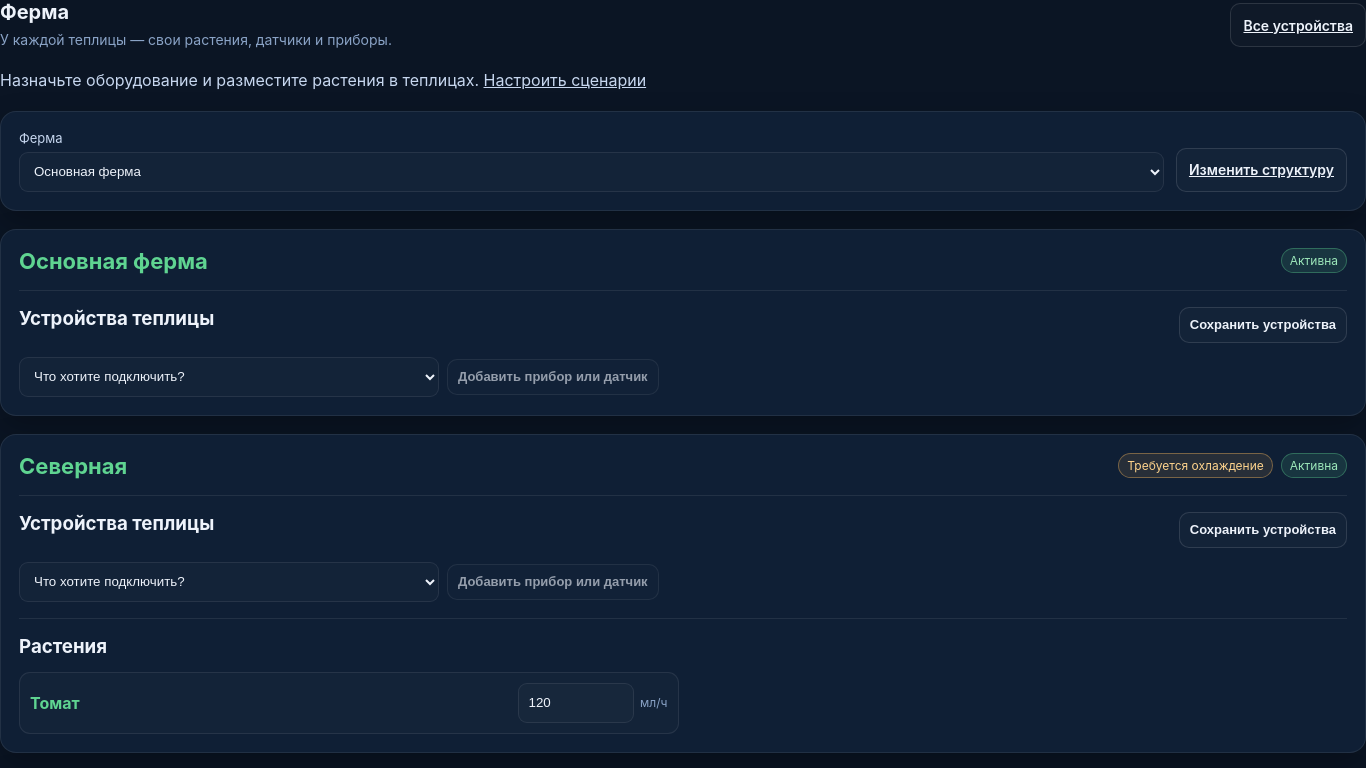
FarmConstructor › dobavlyaet sloty vyborochno i pokazyvaet zapros na ohlazhdenie bez kondicionera
Expected: the text "Требуется охлаждение" is shown, 1118,453 -> 1273,478
Expected: the button "Томат" is shown, 30,693 -> 508,713
Select "Температура воздуха" in the dropdown named "Что подключить" below "Северная" at (229, 582), box 19,562 -> 439,602
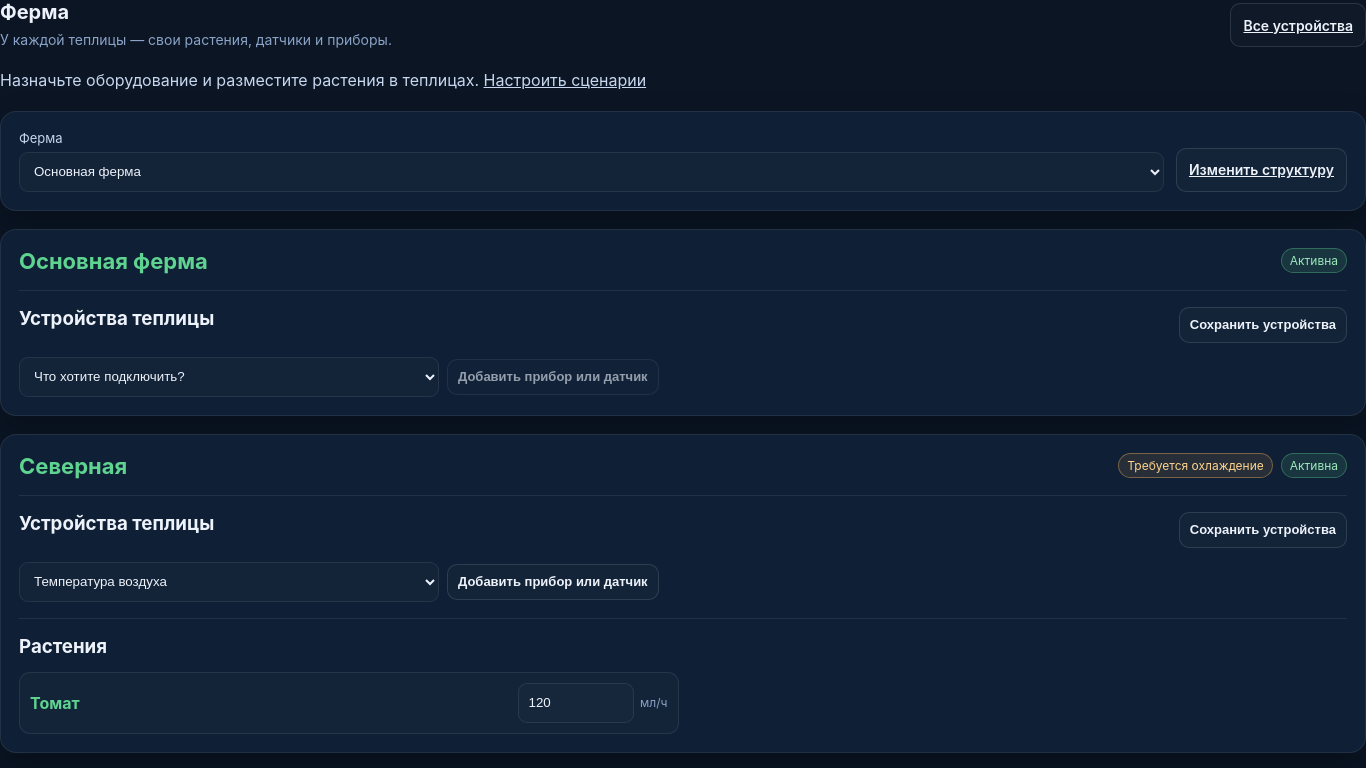
Click the 2nd button "Добавить прибор или датчик" at (553, 582), box 447,564 -> 659,600
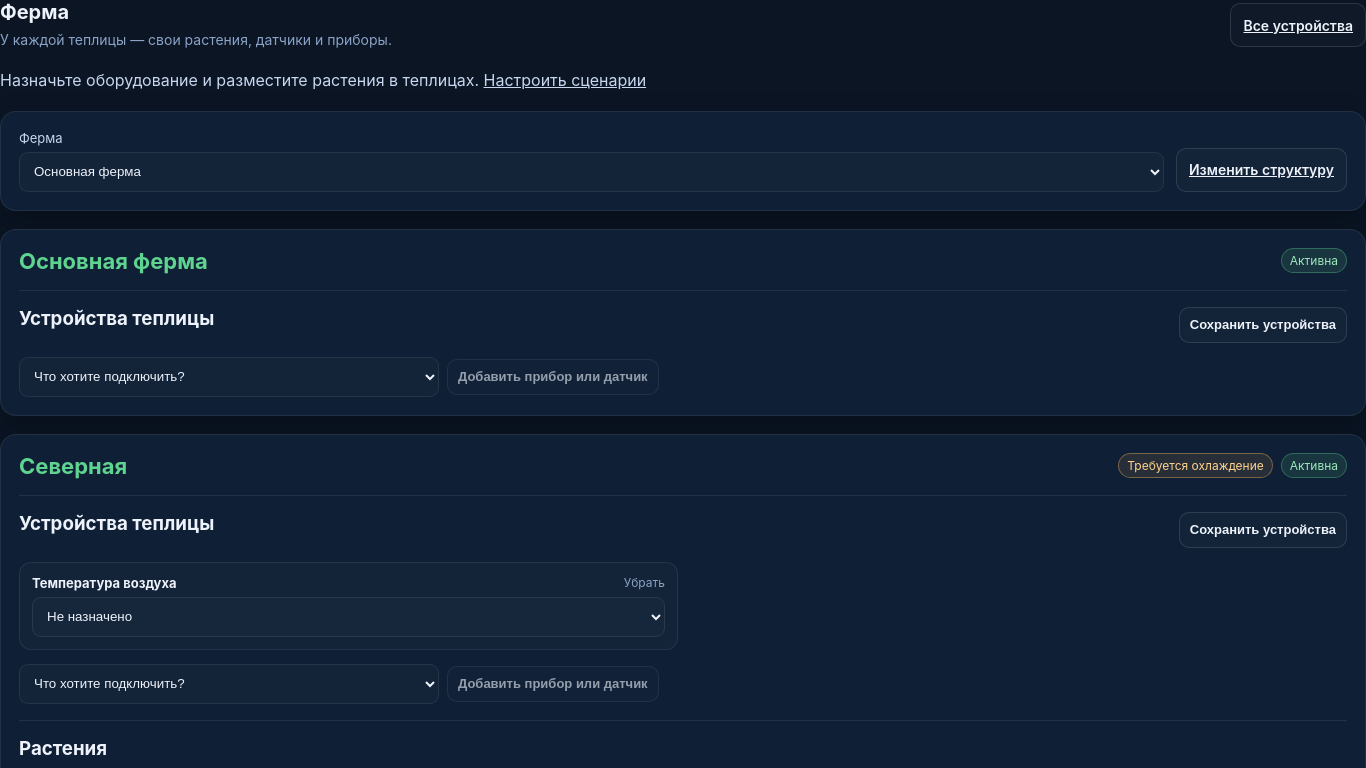
Expected: the dropdown named "Температура воздуха" is shown, 32,597 -> 665,637
